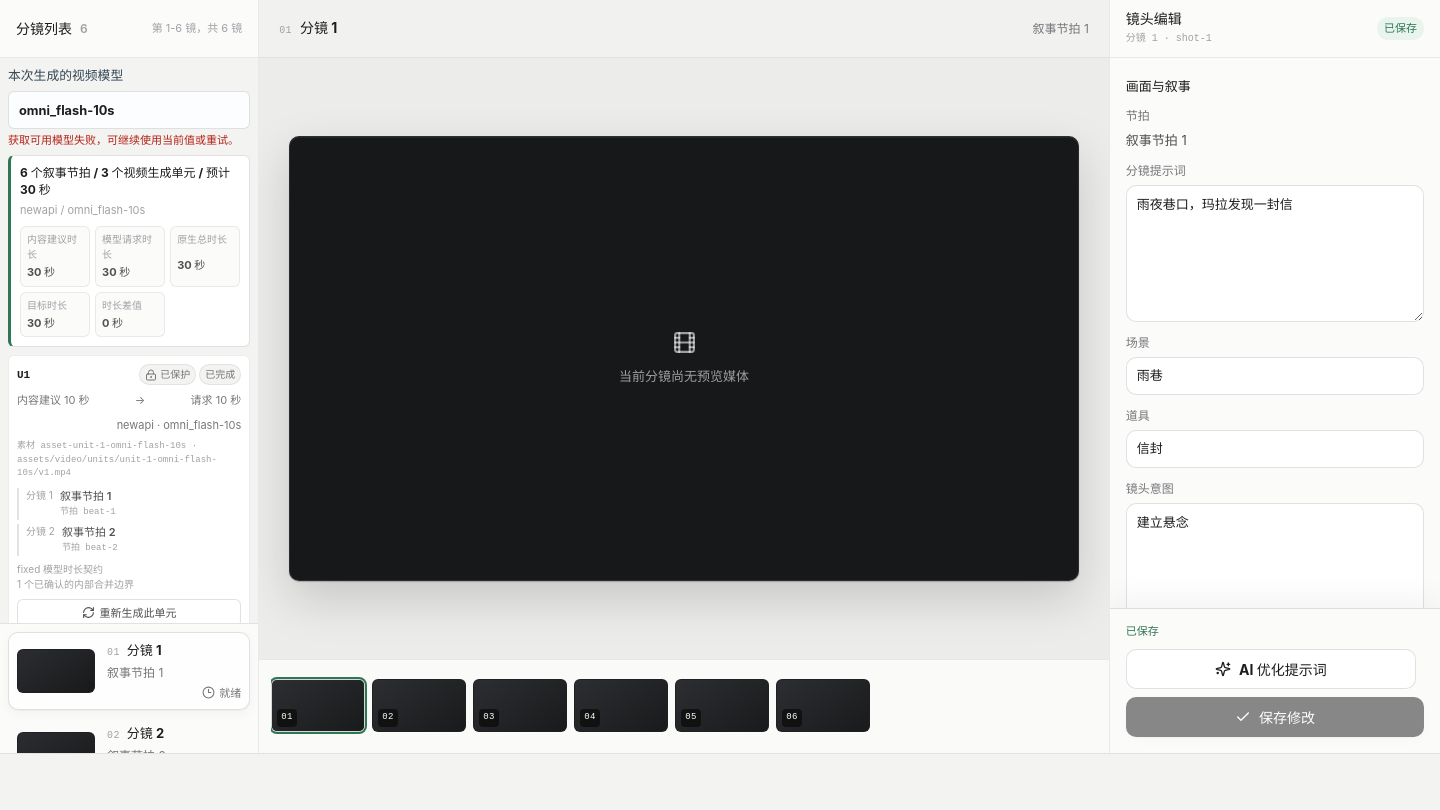
Test: Storyboard generation-unit mock E2E › switches only pending candidates and preserves protected unit models
Replace the text in the field labelled "本次生成的视频模型" with "sora-12s". click: (129, 110)
box: [8,91,250,129]
(page scrolled)
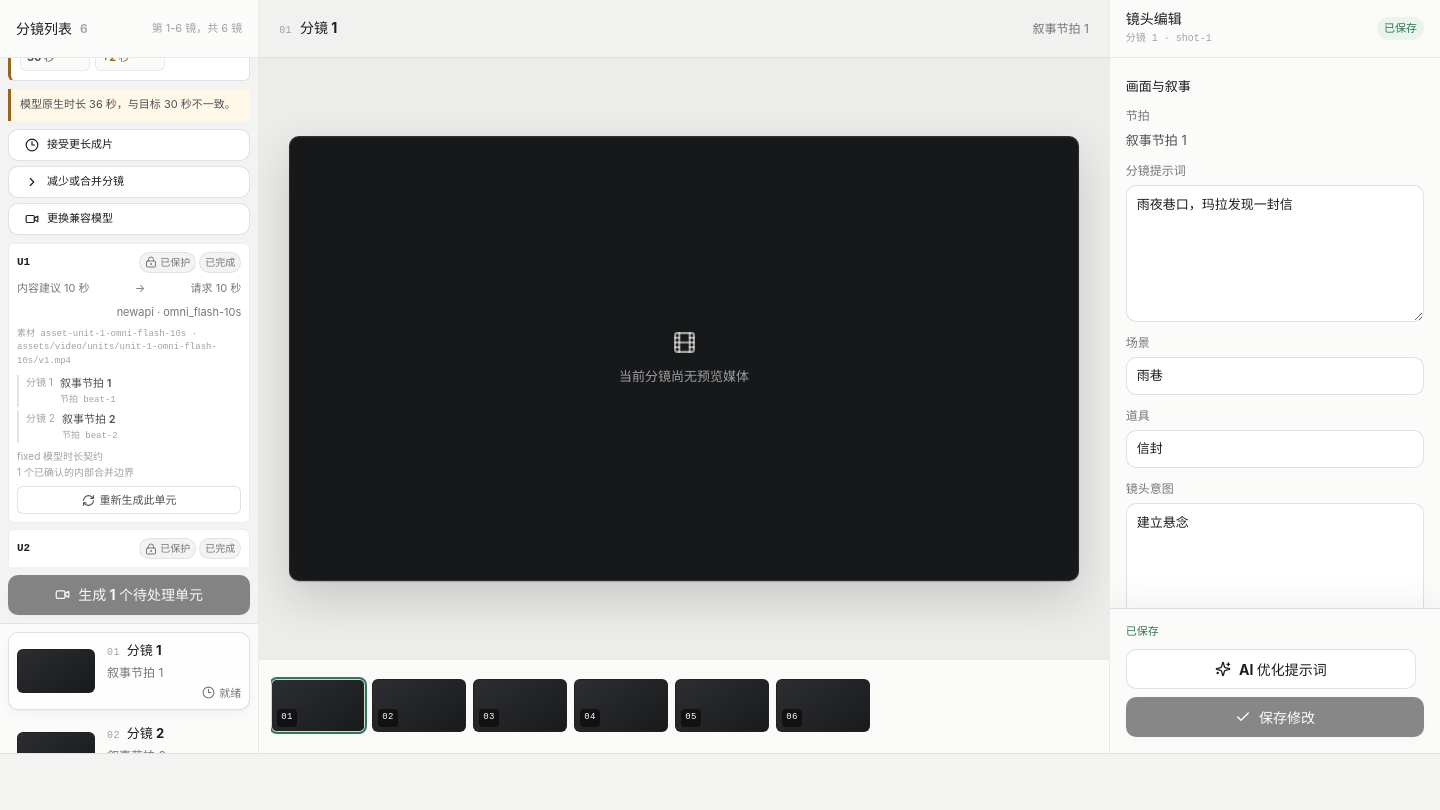
Expected: the text "newapi · omni_flash-10s" is shown 2 times
Expected: the button "生成 1 个待处理单元" is shown, [8,575,250,615]
